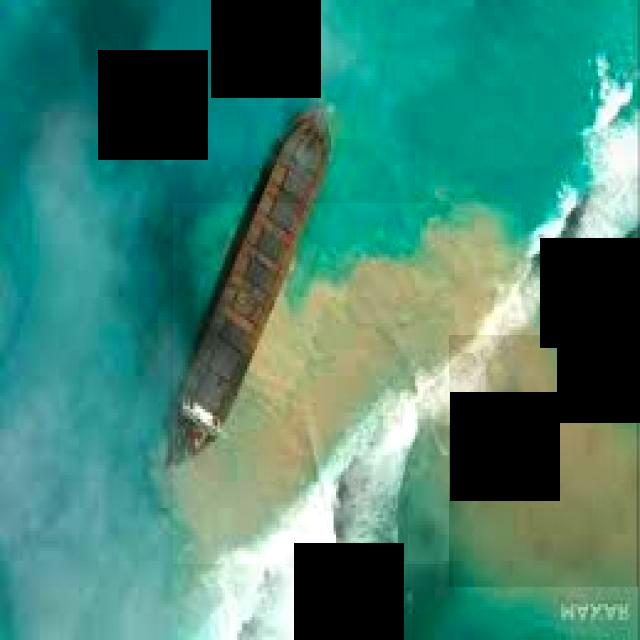oil spill: (173, 203, 521, 564), (450, 335, 639, 587)
